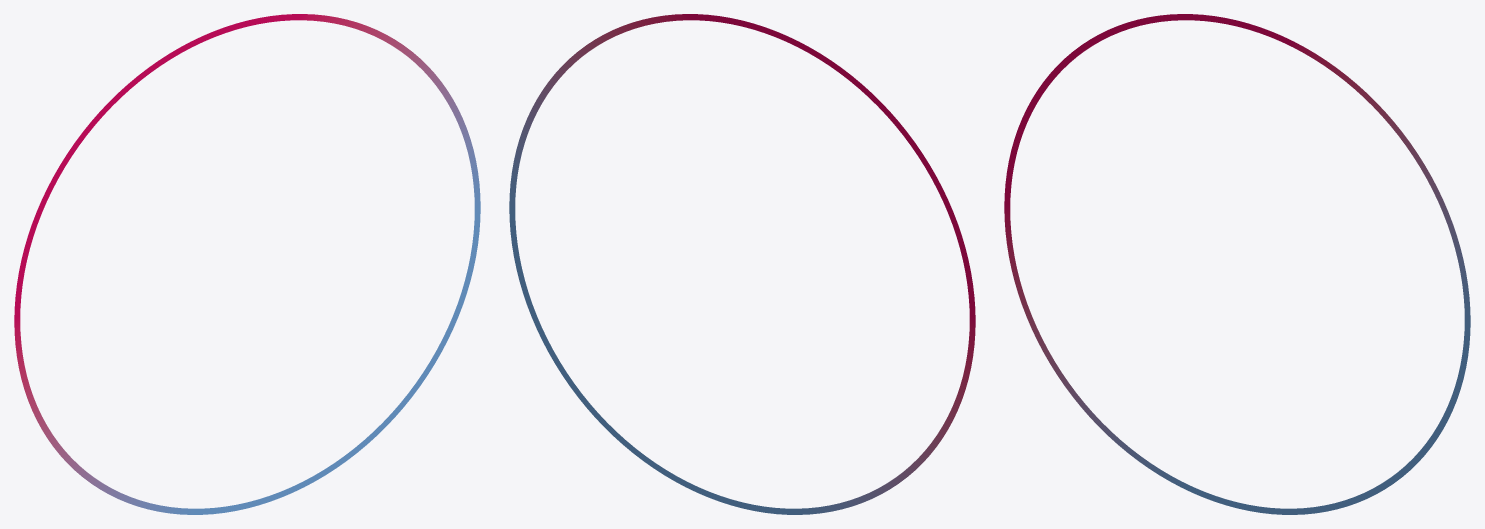
File: Sun_Dark.fbx
3 views of the same model, side by side, from view 1: azimuth 30°, elevation 25°; view 2: azimuth 150°, elevation 25°; view 3: azimuth 330°, elevation 25° (orthographic).
Visible parts, largest first — view 1: Sun_Dark; view 2: Sun_Dark; view 3: Sun_Dark.
Boxes of the visible parts, bbox=[...] form: Sun_Dark: bbox=[14, 14, 480, 514]; Sun_Dark: bbox=[509, 14, 975, 514]; Sun_Dark: bbox=[1004, 14, 1470, 514].
Bounding box in the file's own units: 202 × 202 × 9.21e-05.
Materials: 1 (1 with a texture image).
